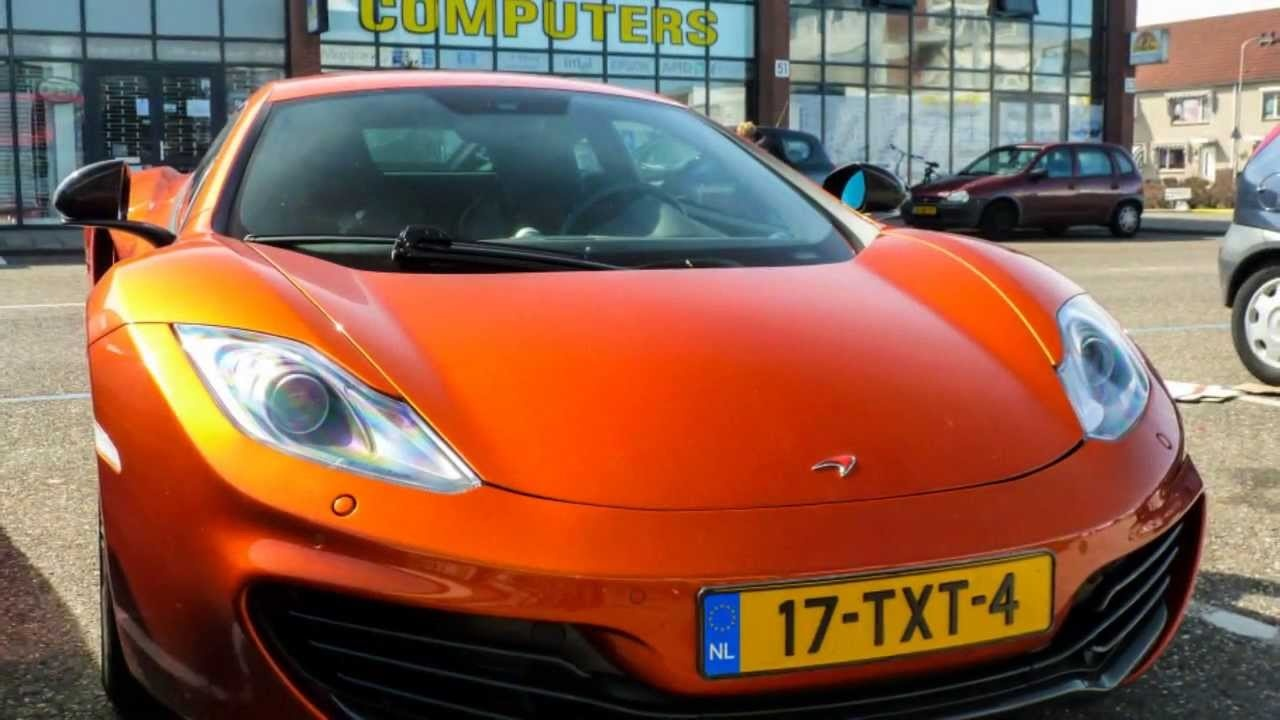number_plate: (696, 546, 1061, 677)
